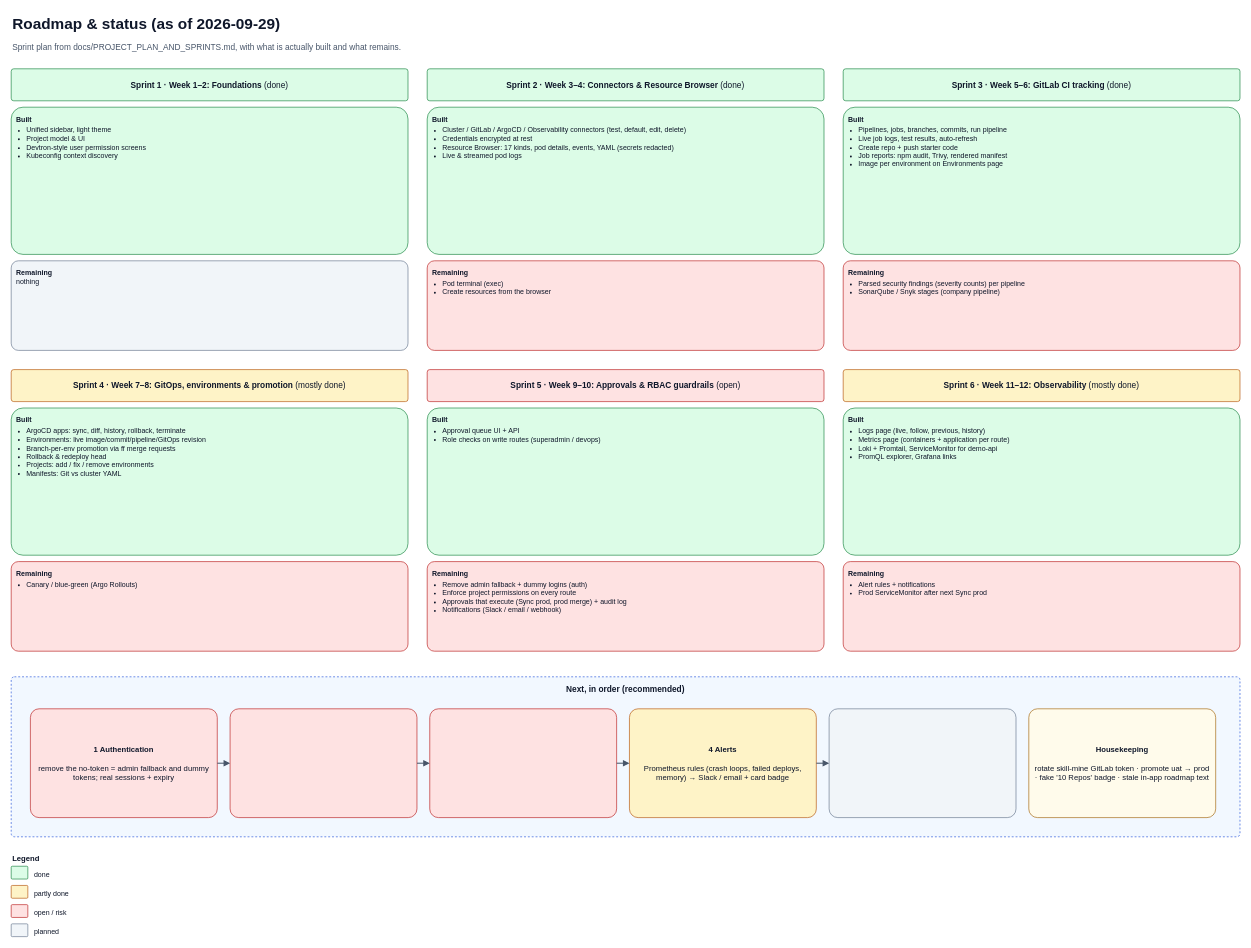
Image size: 1251x948. Some labels were removed from this diagram. Each missing label, with the centre of its shape:
"2 Project permissions developers see only their projects' envs, logs, metrics" belongs at point 323,763.
"3 Approvals that execute Sync prod / prod merge → approval → execute → audit log" belongs at point 523,763.
"5 Canary / blue-green Argo Rollouts per environment, driven from Environments" belongs at point 922,763.
